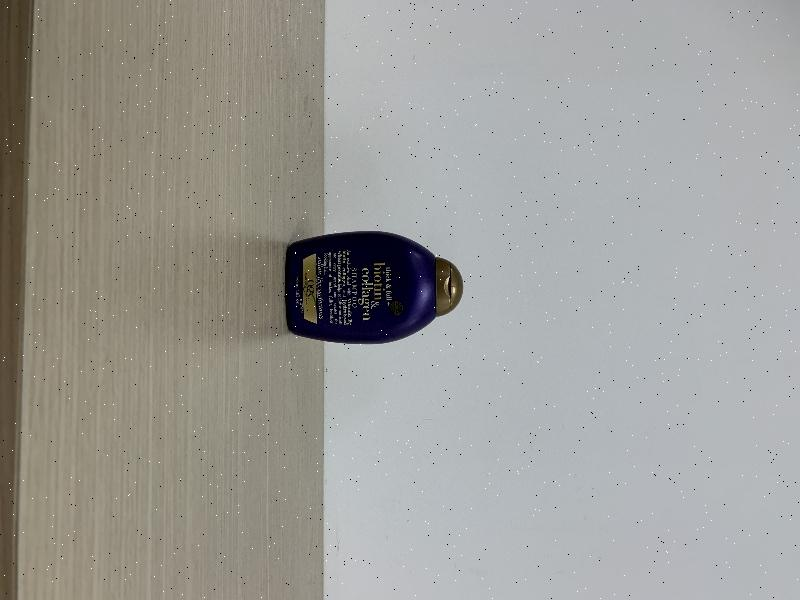BiotinCollagen_Shampoo: (286, 231, 464, 344)
